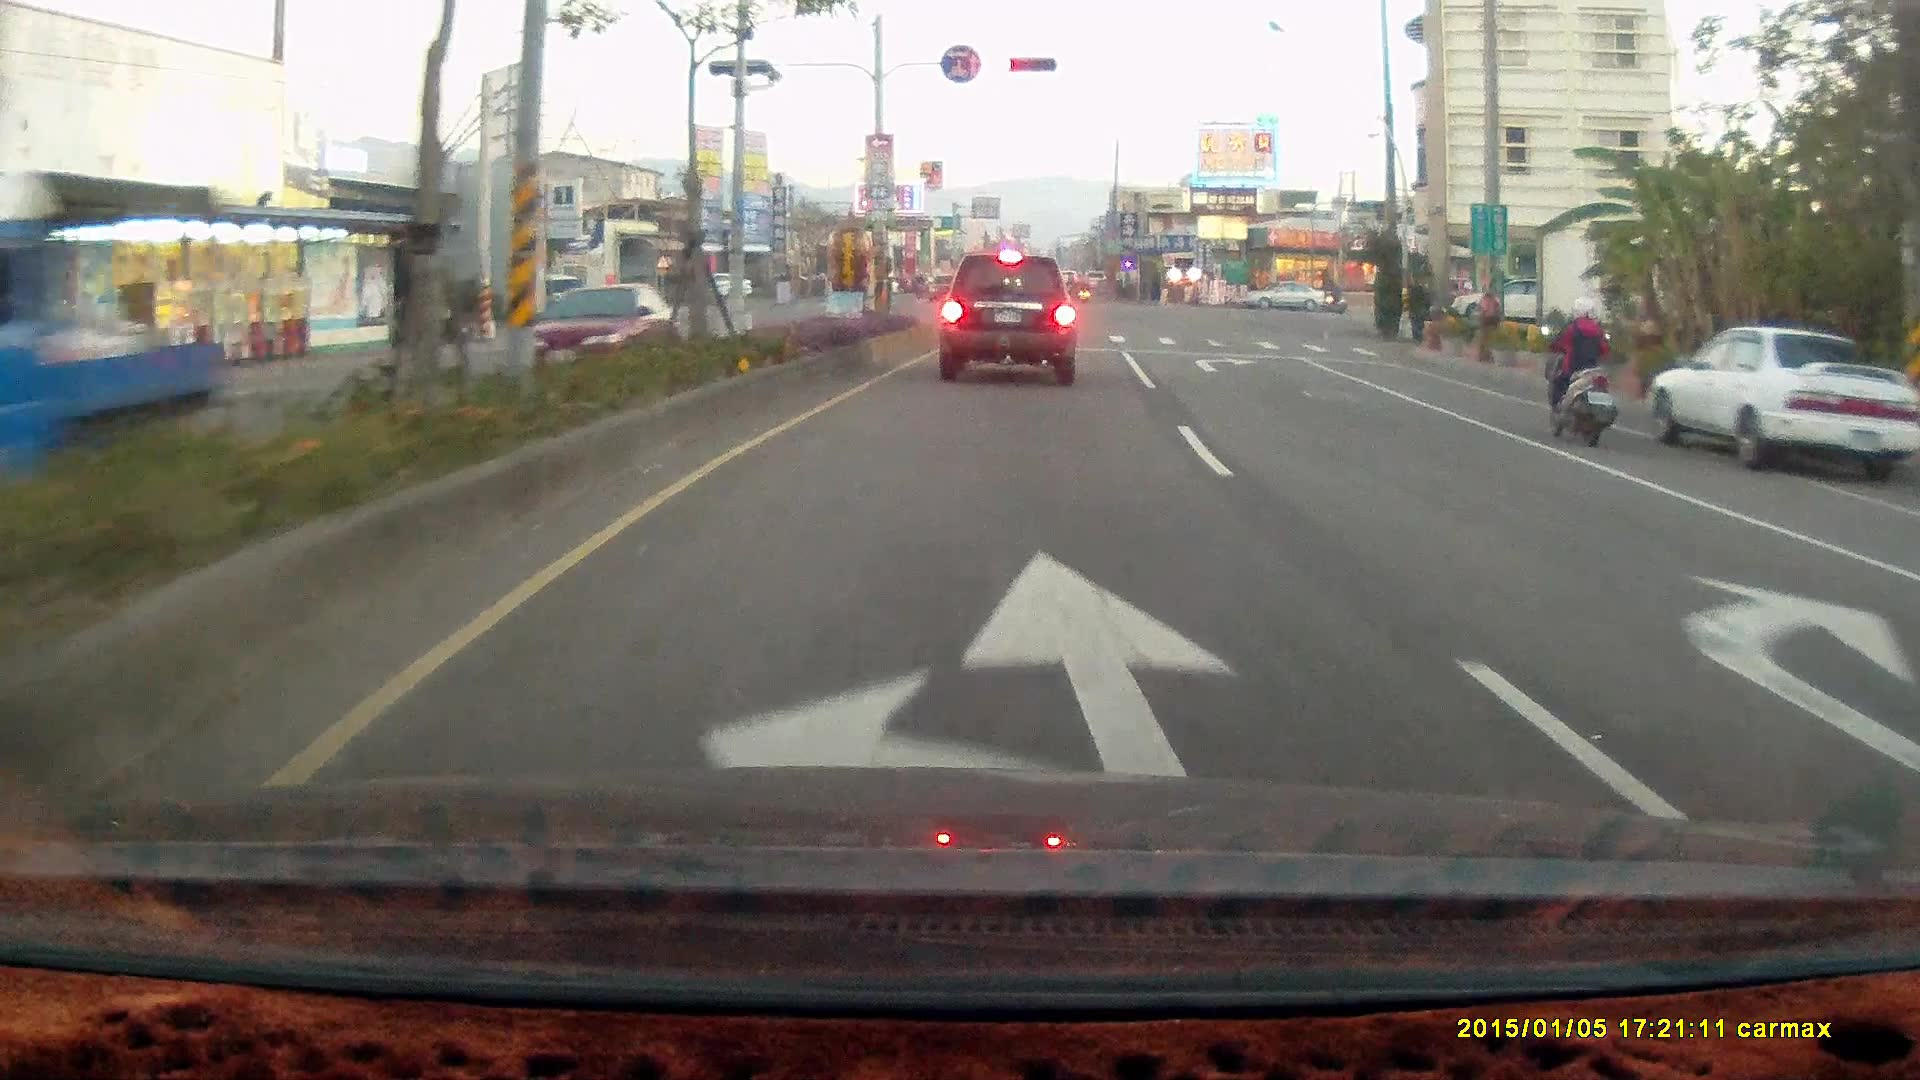rider: (1537, 294, 1619, 446), (1320, 276, 1348, 313)
vehicle: (1, 171, 235, 499), (1641, 323, 1913, 481), (1642, 325, 1915, 478), (937, 250, 1078, 385), (1896, 493, 1920, 836), (1450, 274, 1567, 327), (1883, 528, 1920, 690), (1235, 279, 1331, 316), (1236, 278, 1326, 312)
